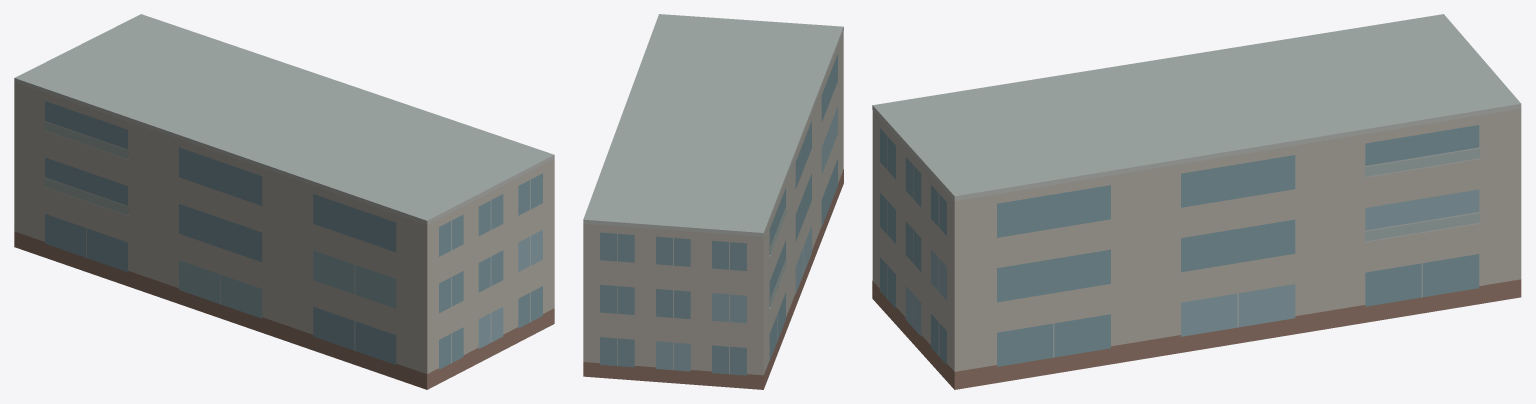
Rendered from survey-upis-32866018.glb.
3 renders of one model, left to right at view 1: azimuth 30°, elevation 25°; view 2: azimuth 150°, elevation 25°; view 3: azimuth 270°, elevation 25°, orthographic. The views are drawn at different scales.
Visible parts, largest first — view 1: survey-upis-32866018.tmp; view 2: survey-upis-32866018.tmp; view 3: survey-upis-32866018.tmp.
Part boxes in pixels (x1,y1,x2,y2): survey-upis-32866018.tmp: [14, 14, 554, 389]; survey-upis-32866018.tmp: [583, 14, 843, 389]; survey-upis-32866018.tmp: [872, 14, 1521, 389].
Size of the model in its own units: 19.81 by 9.8 by 29.78.
